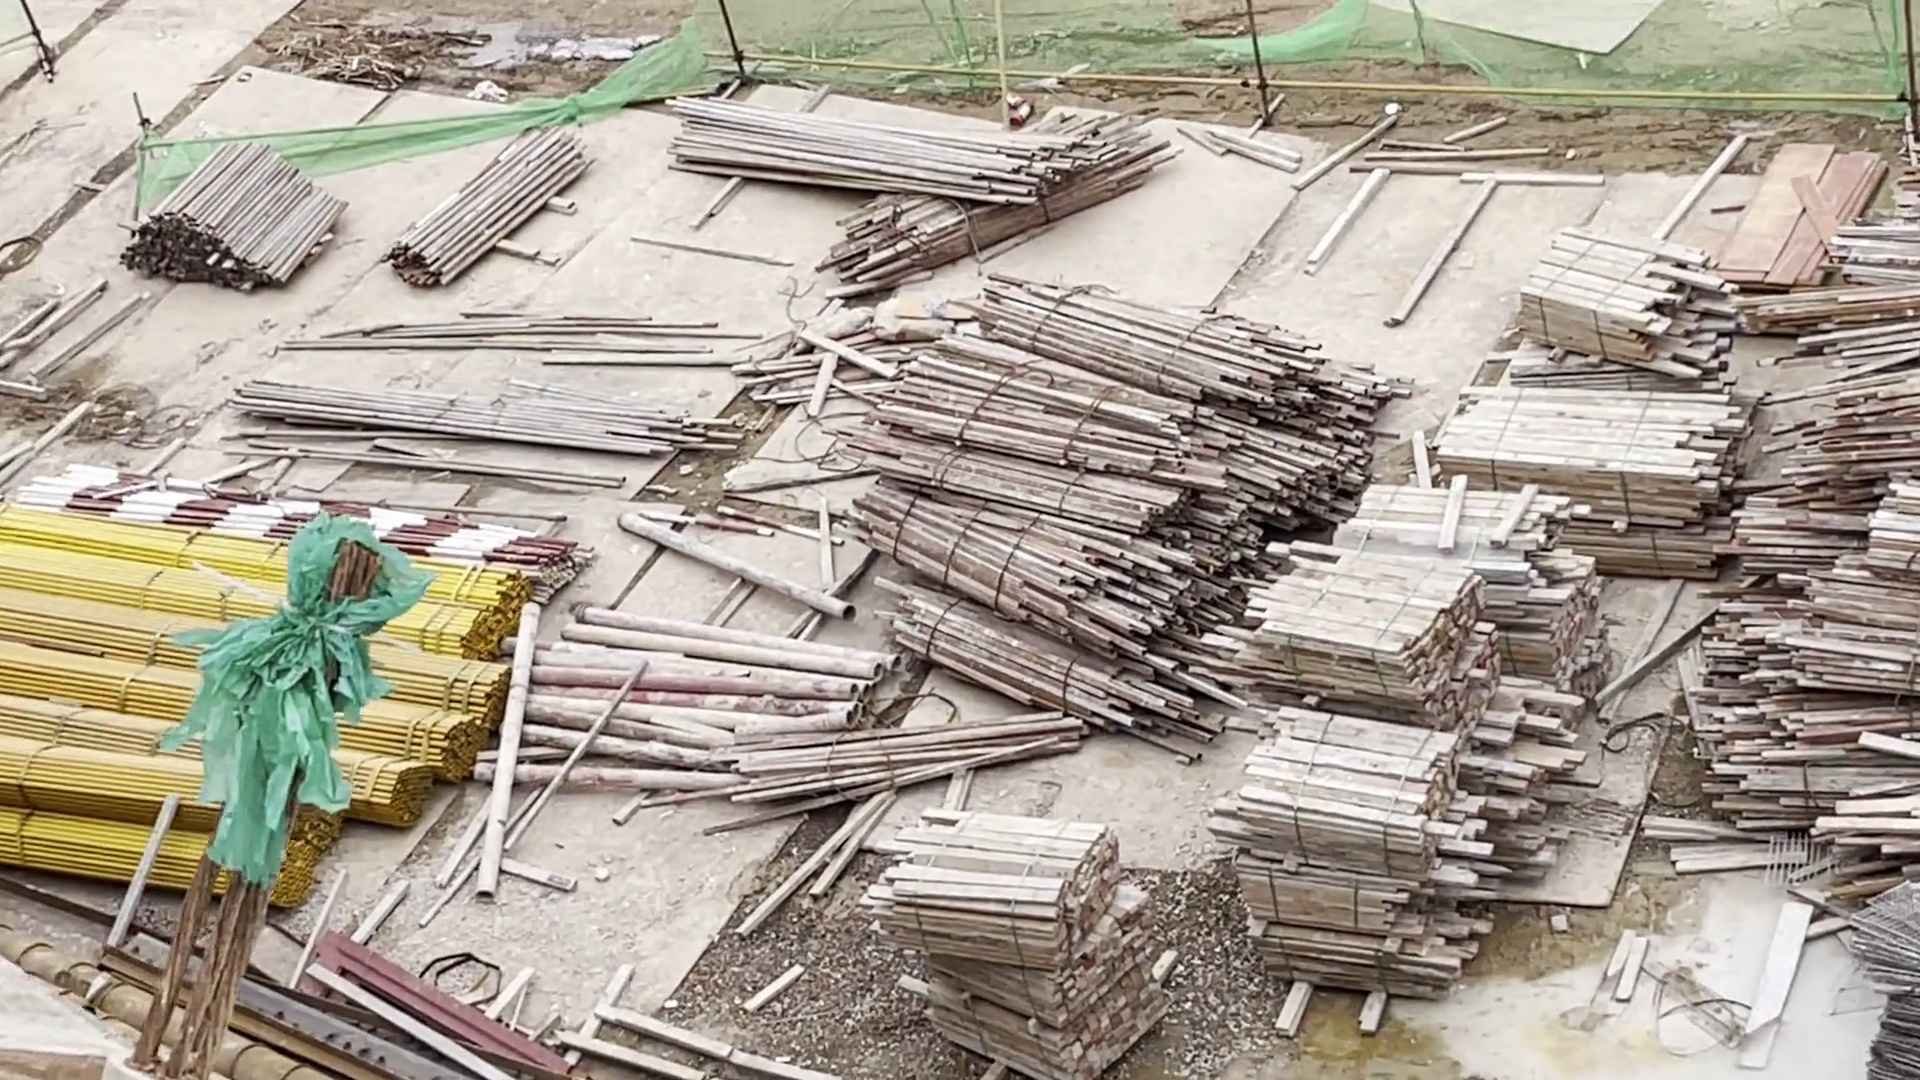board: (1721, 142, 1884, 291)
wood: (893, 284, 1349, 760), (1218, 483, 1600, 1025), (1478, 224, 1920, 611), (658, 92, 1174, 287), (872, 812, 1182, 1073), (1712, 597, 1920, 866), (382, 121, 585, 291), (111, 142, 347, 285)
